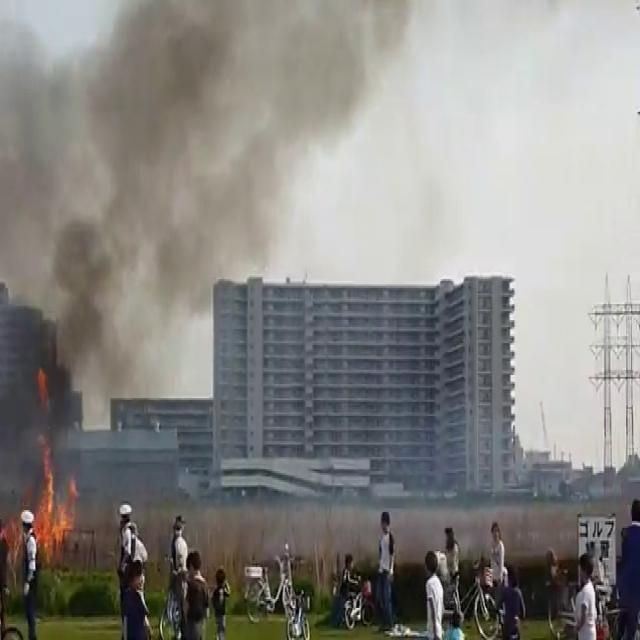Fire: (26, 442, 80, 554)
Smoke: (1, 0, 357, 420)
